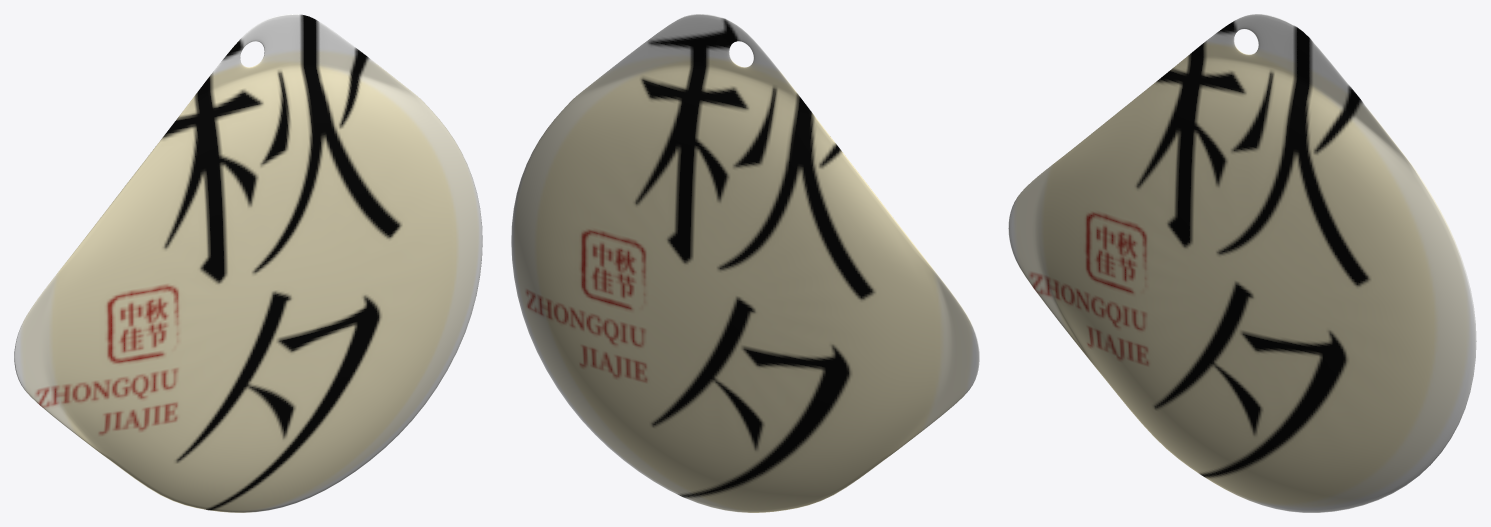
The picture shows the model from 3 angles, left to right: view 1: azimuth 30°, elevation 25°; view 2: azimuth 150°, elevation 25°; view 3: azimuth 330°, elevation 25°; orthographic projection.
Visible parts, largest first — view 1: 贴图; view 2: 贴图; view 3: 贴图.
Part boxes in pixels (x1,y1,x2,y2): 贴图: (14,14,482,512); 贴图: (511,14,979,512); 贴图: (1008,14,1476,512).
Size of the model in its own units: 128 by 129 by 15.18.
Materials: 1 (1 with a texture image).
